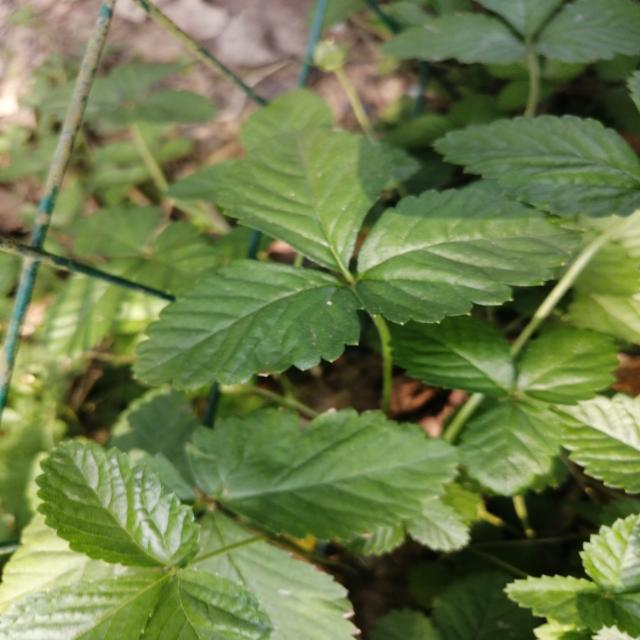Mock_strawberry: (146, 126, 565, 386)
